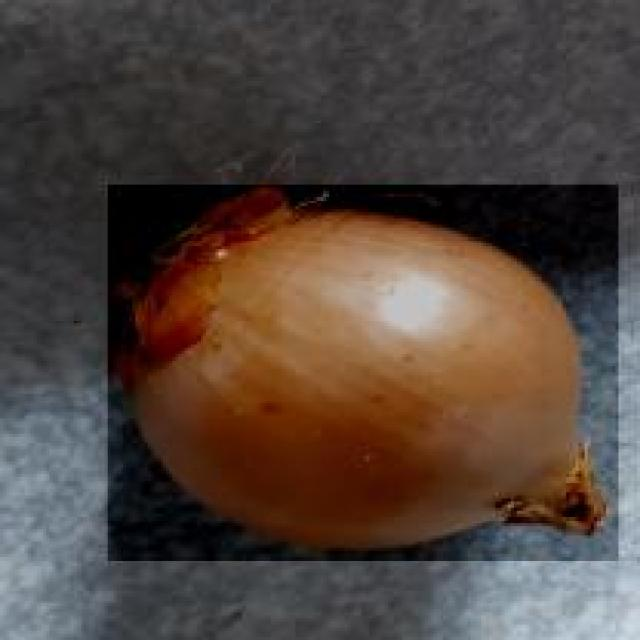onion: (104, 182, 618, 560)
